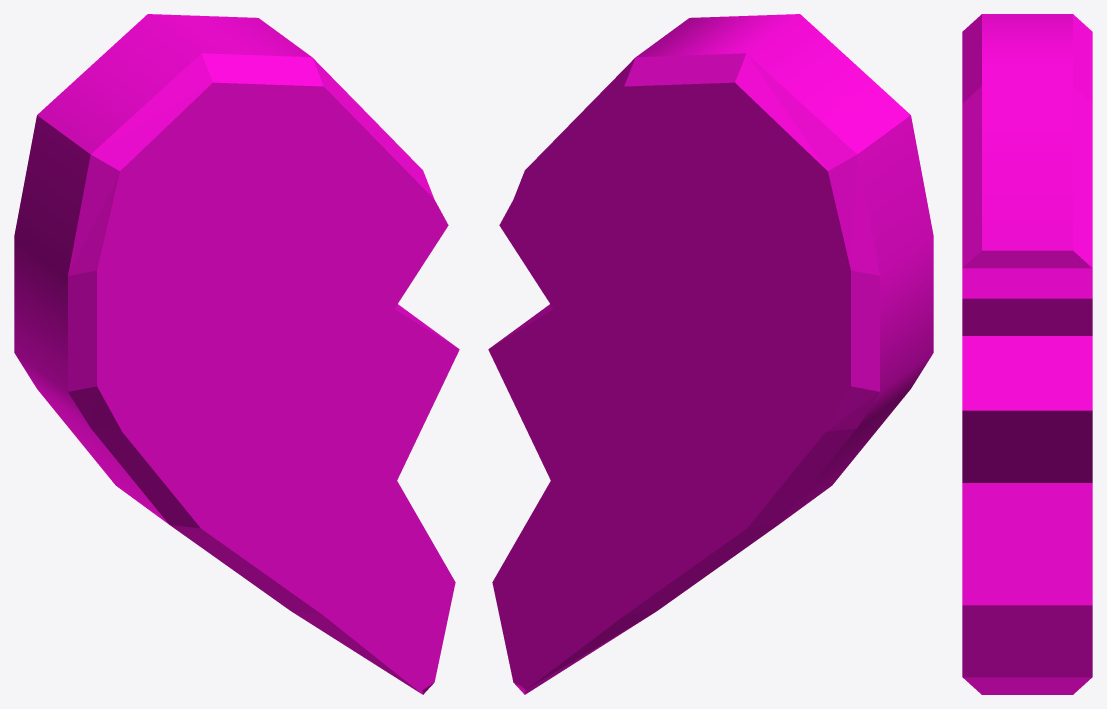
Rendered from PinkHeartLeft.FBX.
The picture shows the model from 3 angles, left to right: view 1: azimuth 30°, elevation 25°; view 2: azimuth 150°, elevation 25°; view 3: azimuth 270°, elevation 25°; orthographic projection. The views are drawn at different scales.
Visible parts, largest first — view 1: HeartLeftPink; view 2: HeartLeftPink; view 3: HeartLeftPink.
Part boxes in pixels (box(x1,y1,x2,y2)): HeartLeftPink: box(14, 14, 459, 694); HeartLeftPink: box(488, 14, 933, 694); HeartLeftPink: box(962, 14, 1092, 694).
Size of the model in its own units: 0.1588 by 0.2776 by 0.0555.
